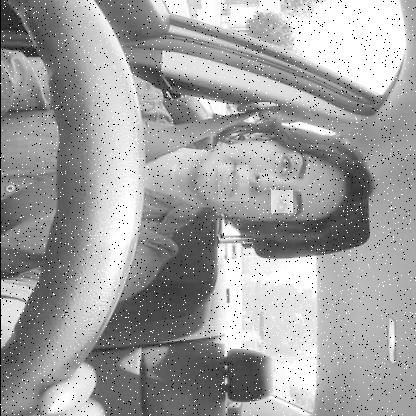seatbelt: (0, 110, 383, 245)
